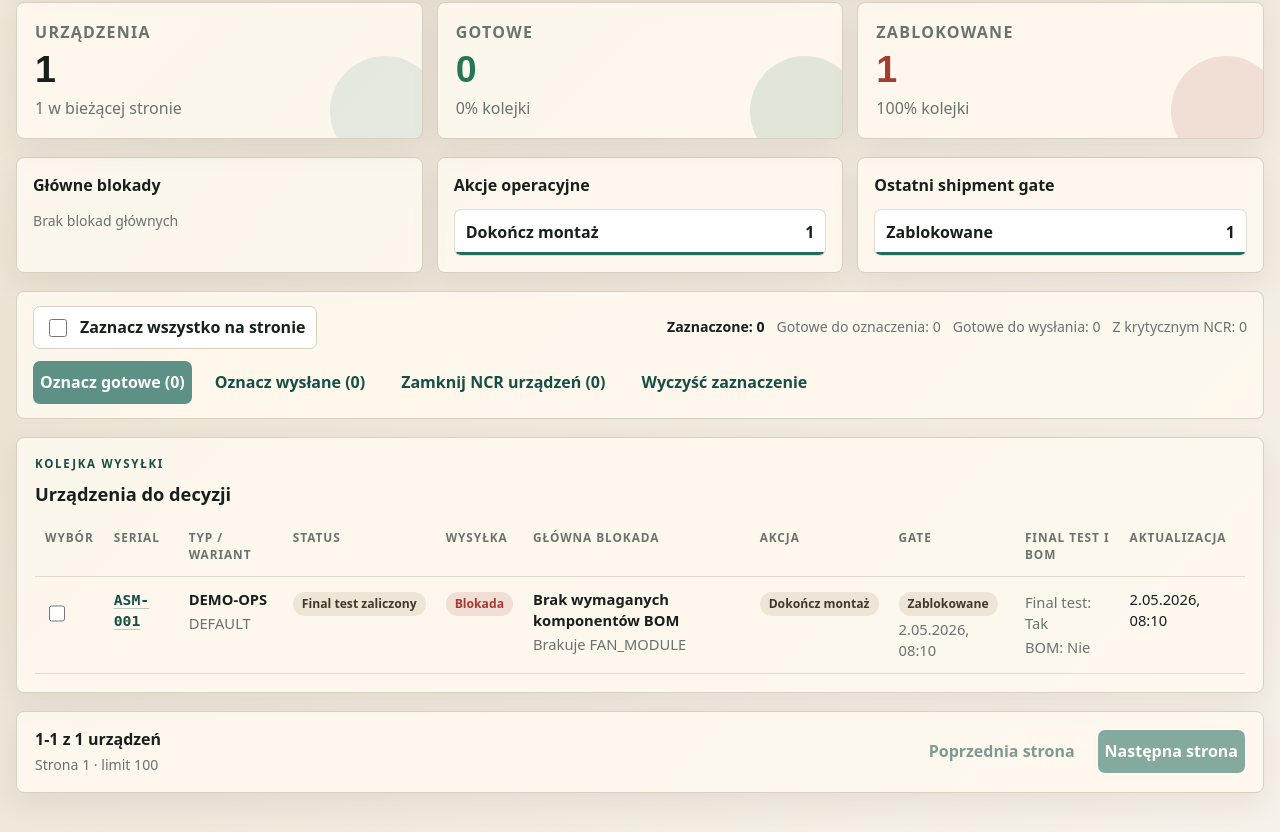
Scenario: App › completes assembly from the details drawer with an active production session
(page scrolled)
Click the button "ASM-001". click: (141, 610)
box: left=114, top=588, right=169, bottom=631
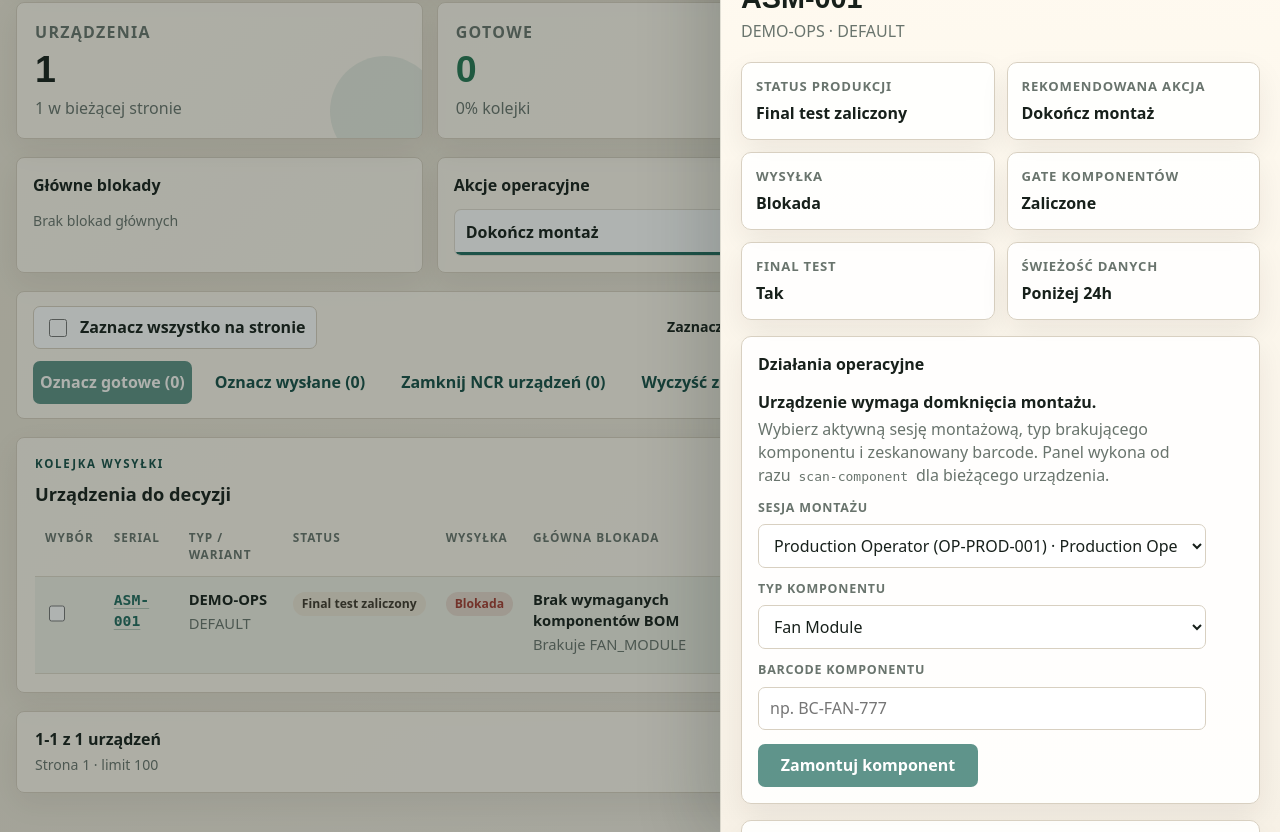
Check: the dropdown labelled "Sesja montażu" shows "Production Operator (OP-PROD-001) · Production Operator · PR-ST-01", box left=758, top=524, right=1206, bottom=568
Check: the dropdown labelled "Typ komponentu" shows "Fan Module"
Select "Fan Module V2" in the dropdown labelled "Typ komponentu". click: (982, 628)
box: left=758, top=606, right=1206, bottom=650
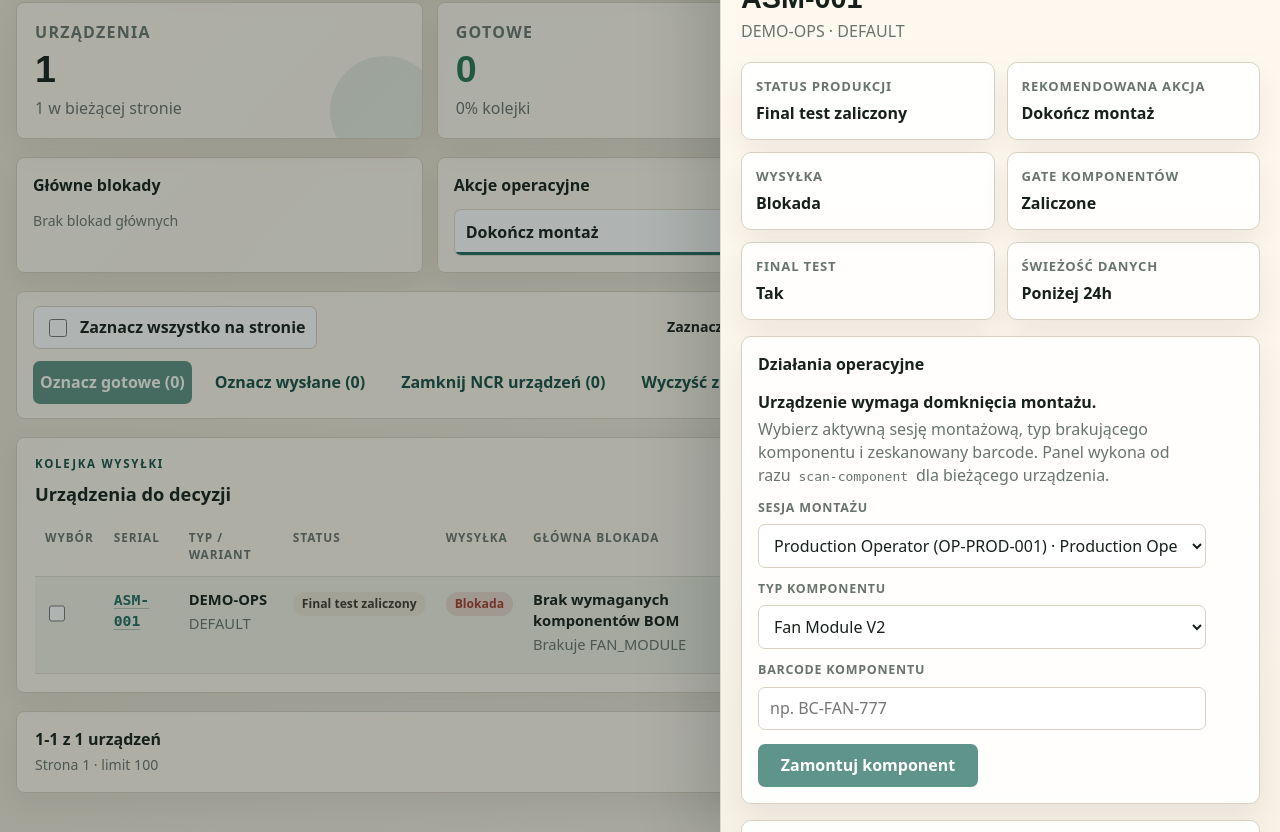
Type "BC-FAN-777" into the field labelled "Barcode komponentu". click: (982, 708)
box: left=758, top=686, right=1206, bottom=730
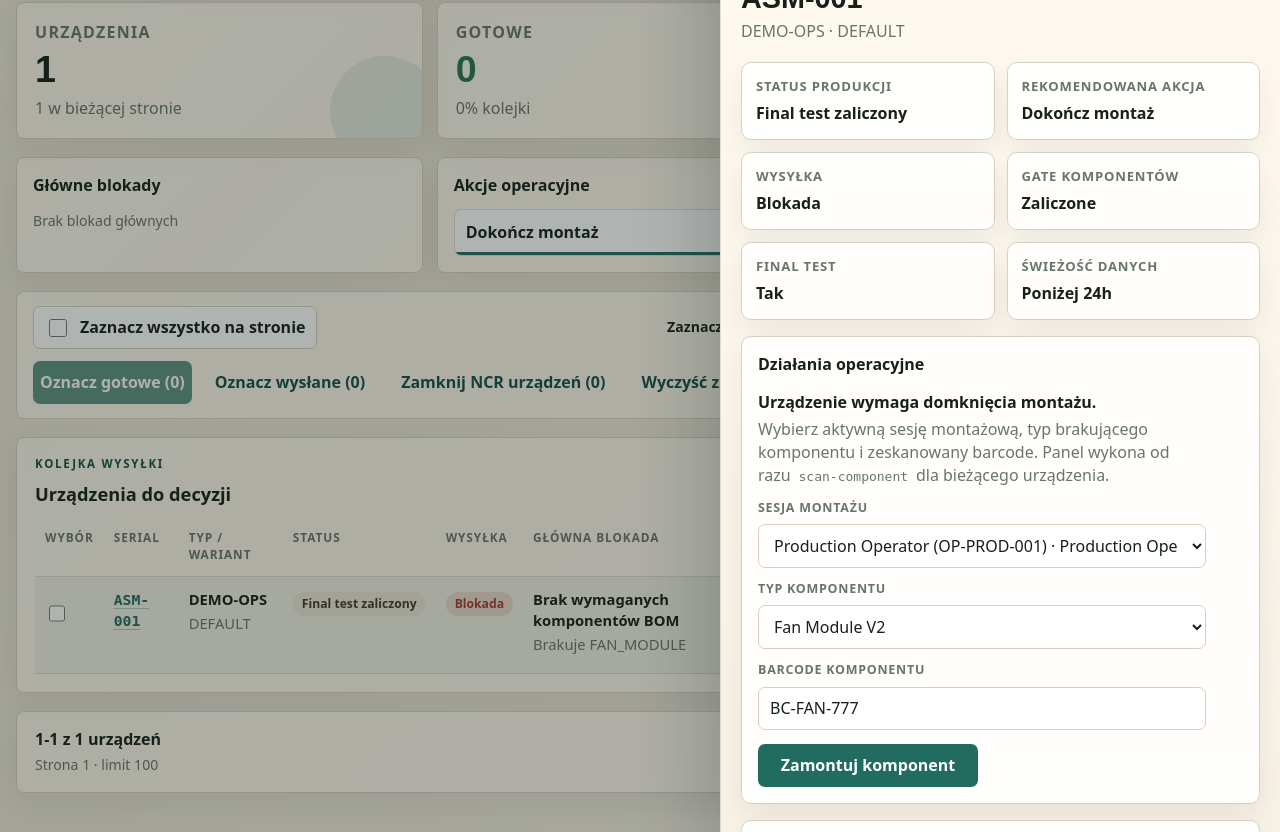
Click the button "Zamontuj komponent". click: (868, 765)
box: left=758, top=744, right=978, bottom=787
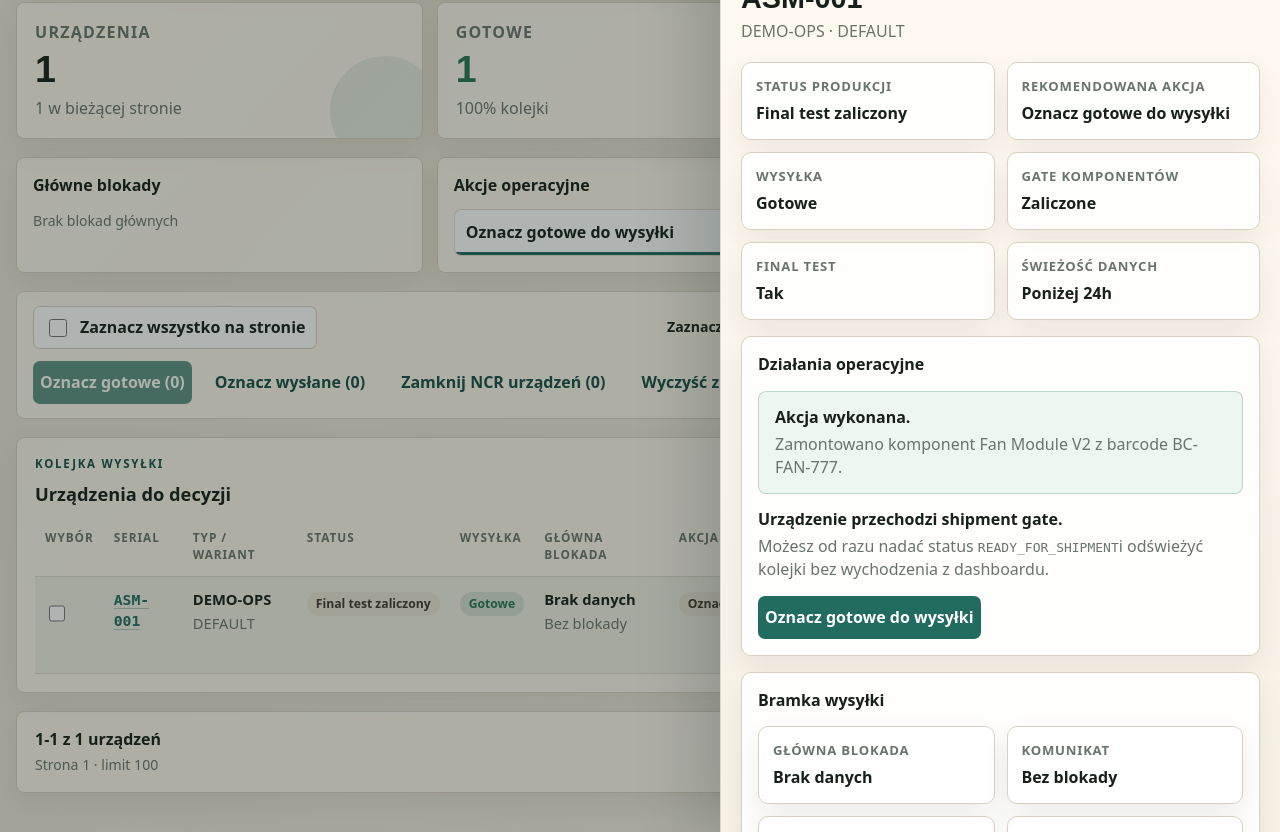
Check: the button "Zamontuj komponent" is gone
